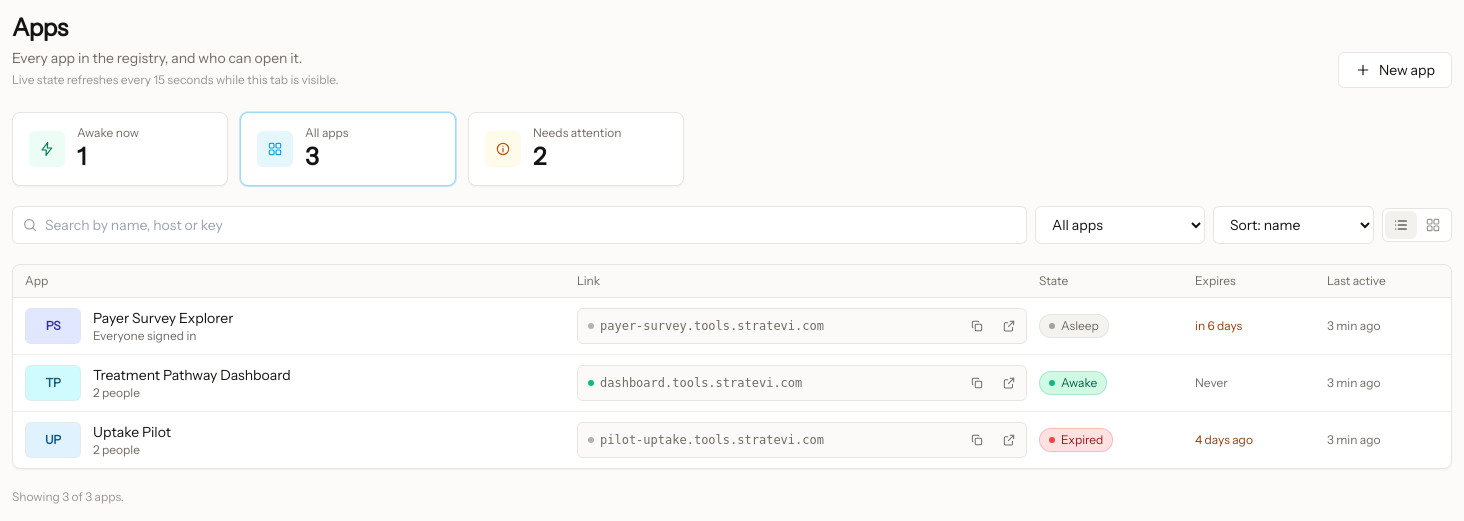
Test case: AdminAppsPage › offers a way out of a search that matches nothing
The image size is (1464, 521).
Type "zzzz" into the search field named "Search apps" at (520, 225), box [12,206,1027,244]
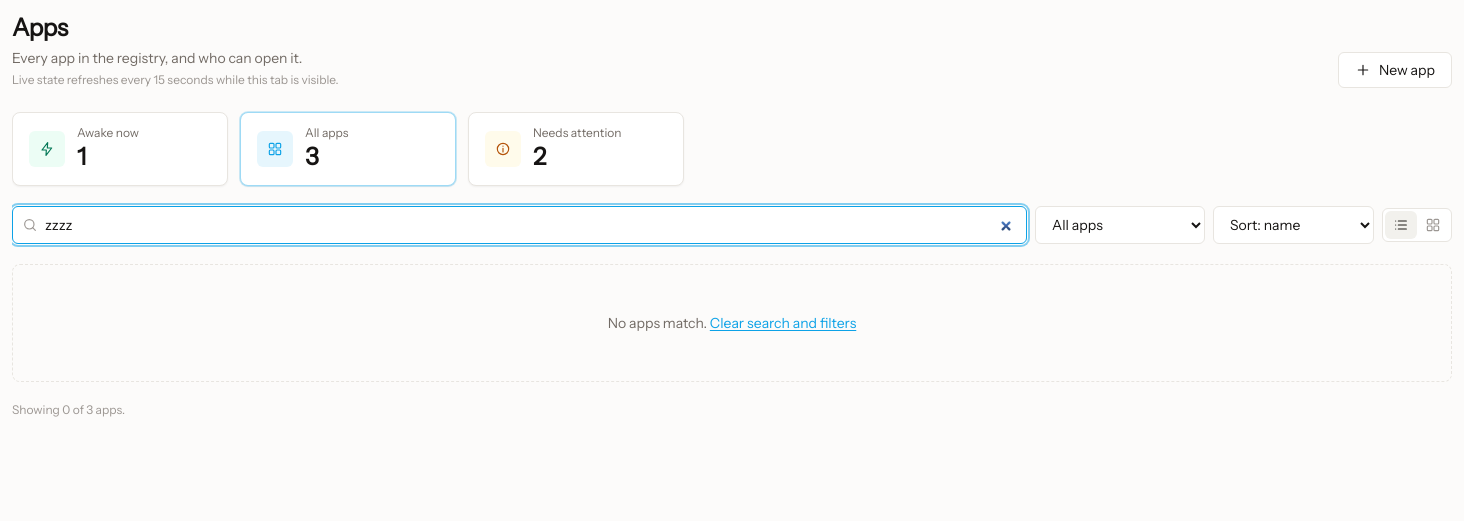
Expected: the text "No apps match." is shown, [608,314,707,332]
Click the button "Clear search and filters" at (783, 323), box [710,313,856,333]
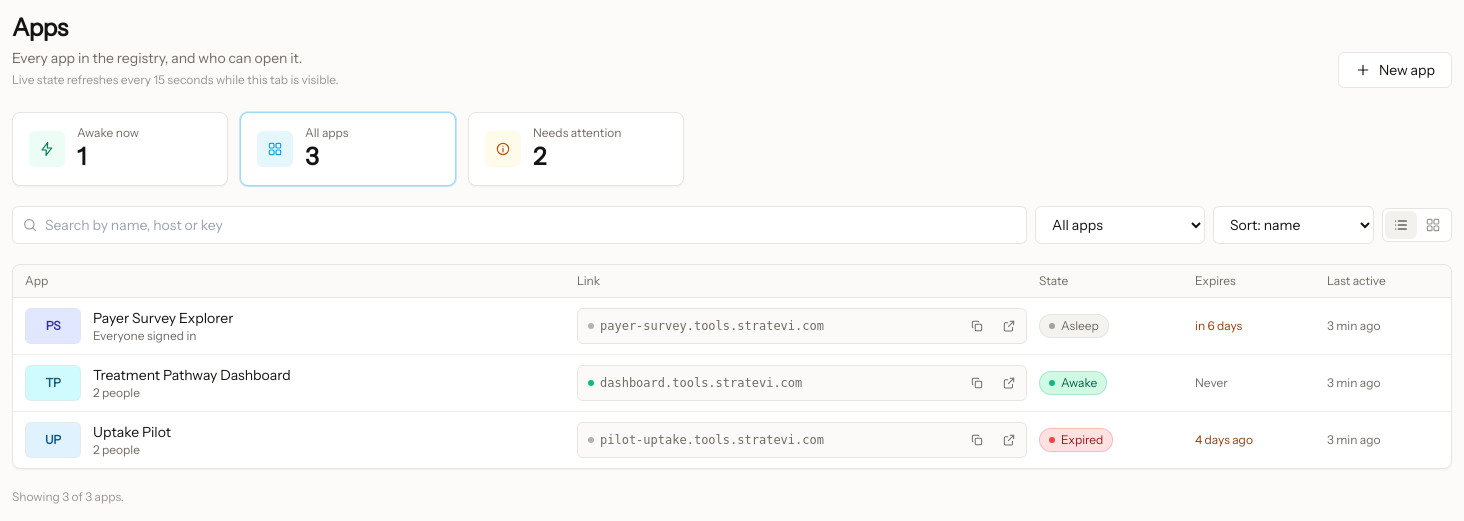
Expected: the link "Treatment Pathway Dashboard" is shown, [93,365,291,385]
